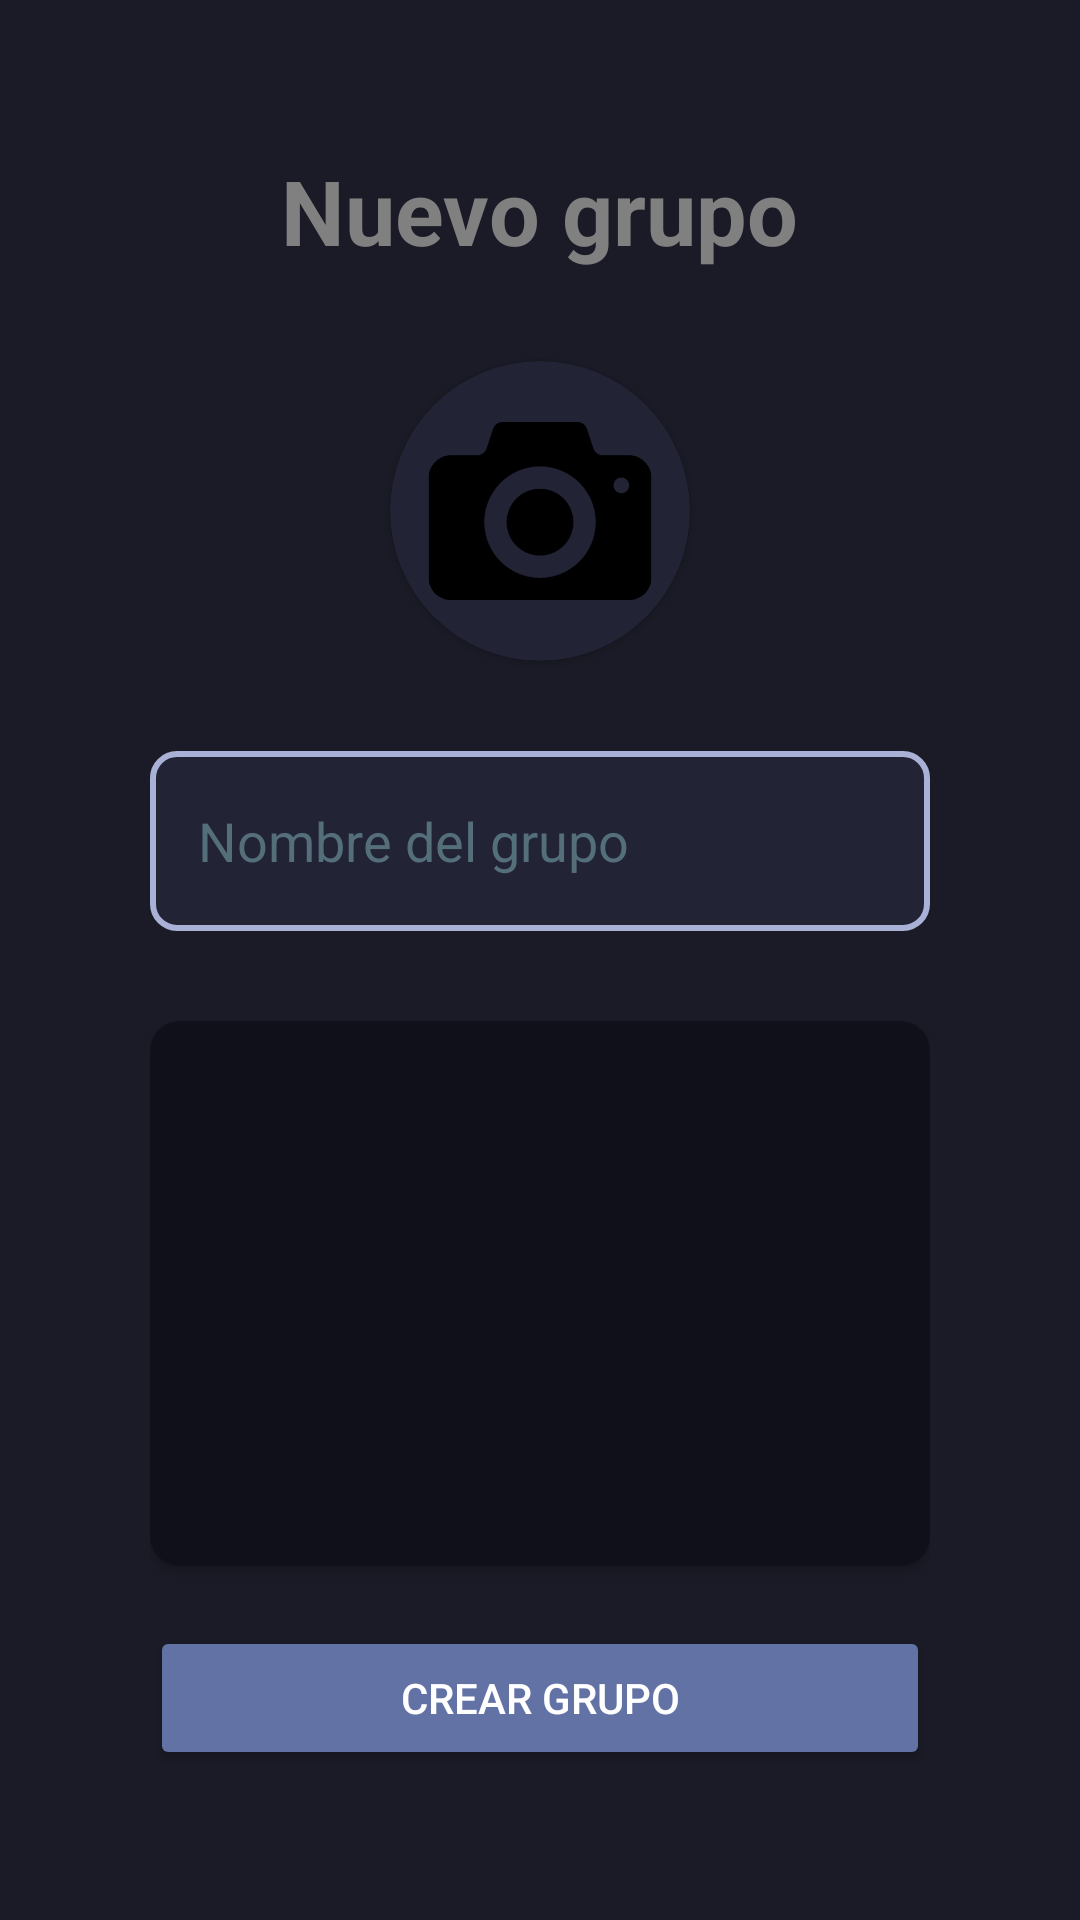

Where to tap for icons on this 1080 × 1920 app screen, as point (x, y):
Foto del grupo: point (540, 511)
